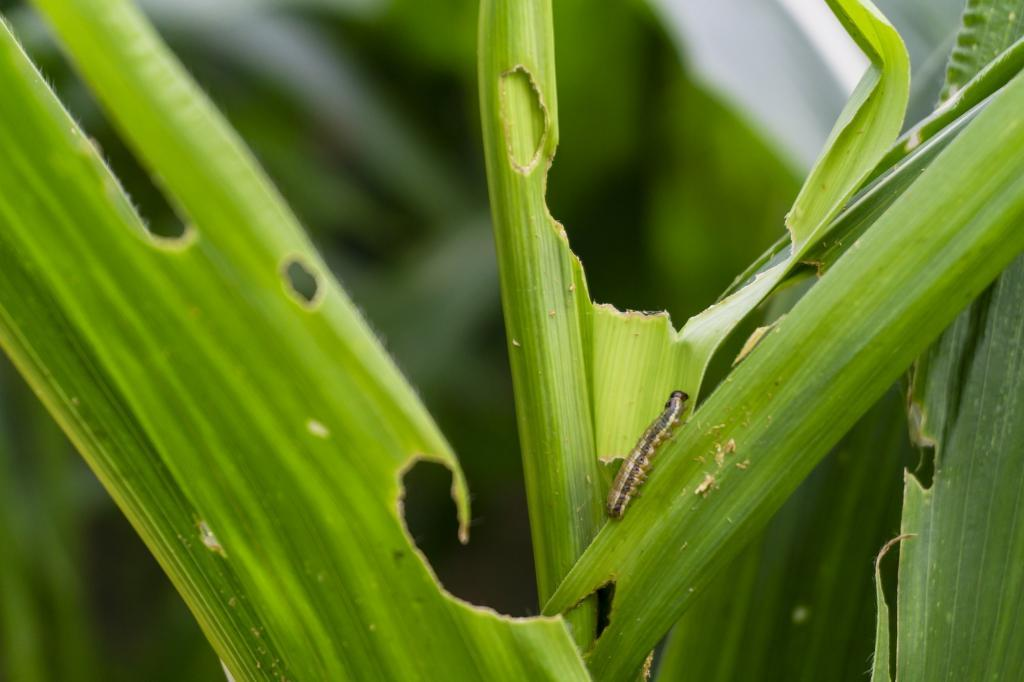Maize-fall-armyworm: (474, 314, 752, 674)
